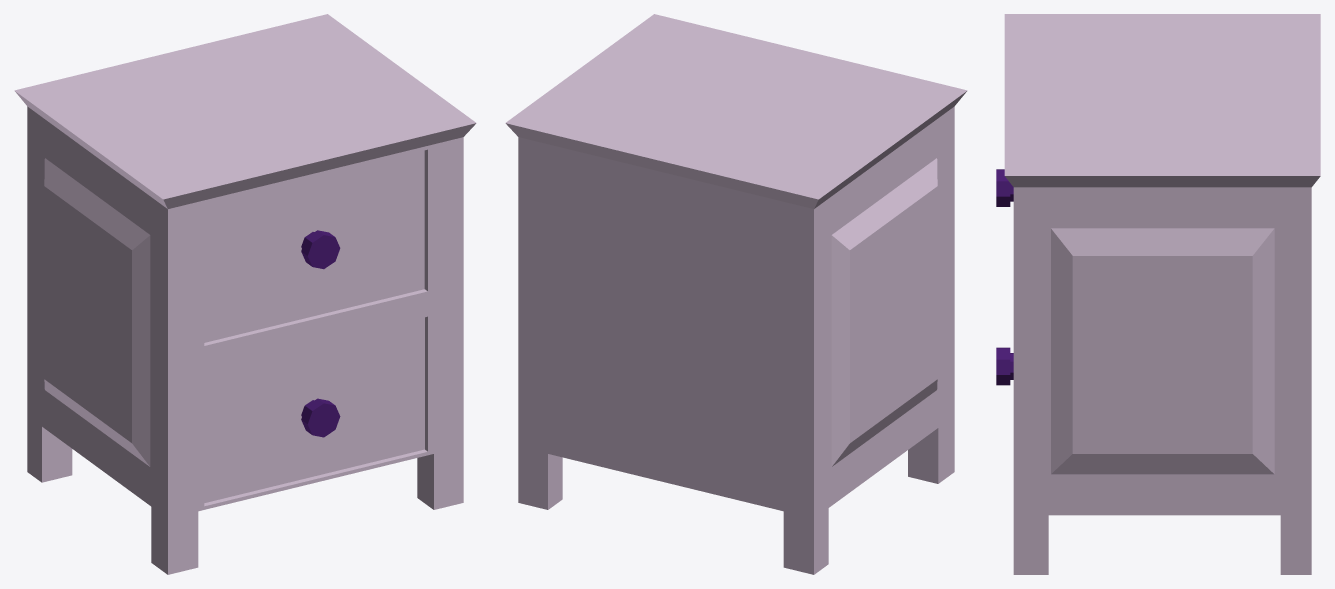
Rendered from Comoda.fbx.
3 renders of one model, left to right at view 1: azimuth 30°, elevation 25°; view 2: azimuth 150°, elevation 25°; view 3: azimuth 270°, elevation 25°, orthographic. The views are drawn at different scales.
Visible parts, largest first — view 1: BedsideTableRoom; view 2: BedsideTableRoom; view 3: BedsideTableRoom.
Boxes of the visible parts, left/top/right/bottom form: BedsideTableRoom: left=14, top=14, right=476, bottom=574; BedsideTableRoom: left=505, top=14, right=967, bottom=574; BedsideTableRoom: left=996, top=14, right=1320, bottom=574.
Size of the model in its own units: 79.87 by 92.53 by 67.44.
